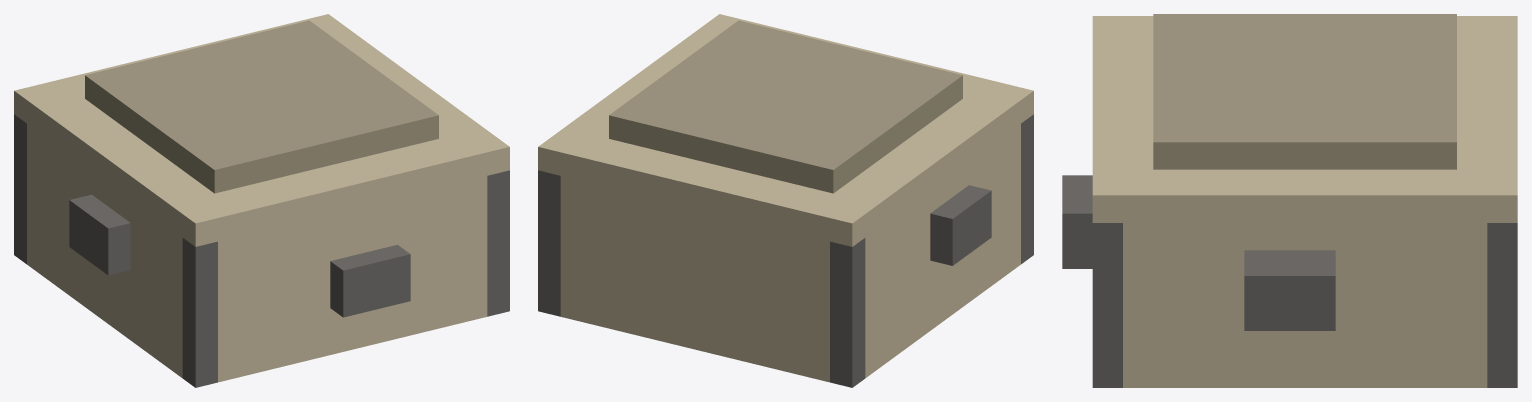
The model's file is caja_pino_01.glb.
3 views of the same model, side by side, from view 1: azimuth 30°, elevation 25°; view 2: azimuth 150°, elevation 25°; view 3: azimuth 270°, elevation 25° (orthographic). The views are drawn at different scales.
Visible parts, largest first — view 1: caja_pino; view 2: caja_pino; view 3: caja_pino.
Boxes of the visible parts, <box> form: caja_pino: <box>14,14,509,387</box>; caja_pino: <box>538,14,1033,387</box>; caja_pino: <box>1062,14,1517,387</box>.
Size of the model in its own units: 1.21 by 0.5714 by 1.07.
